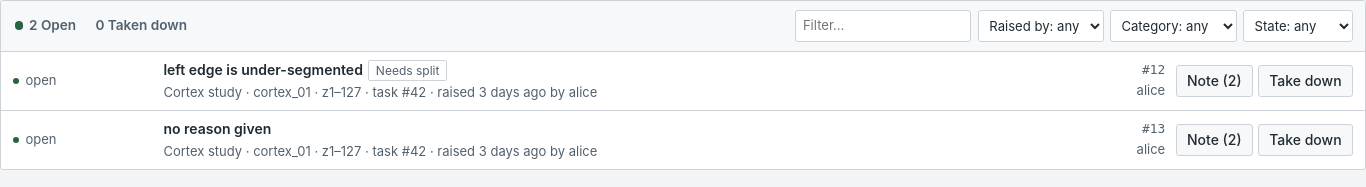
WorkList filtering › narrows cases by category, keeping uncategorised distinct
The width and height of the screenshot is (1366, 187).
Select "Uncategorised" in the 2nd dropdown named "Category" at point(1173, 26), box [1110,10,1237,42]
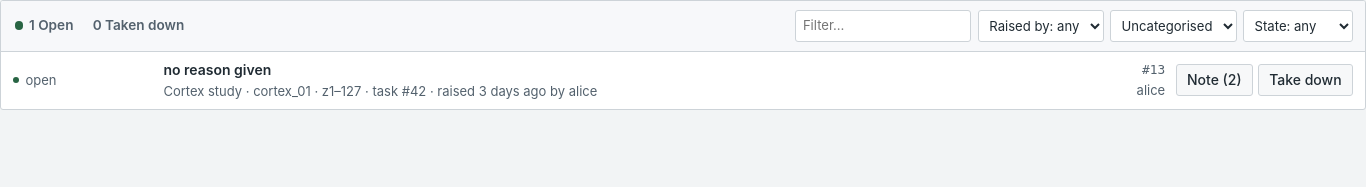
Expected: the link "#13" is shown, [1142,61,1165,79]
Result: the link "#12" is gone
